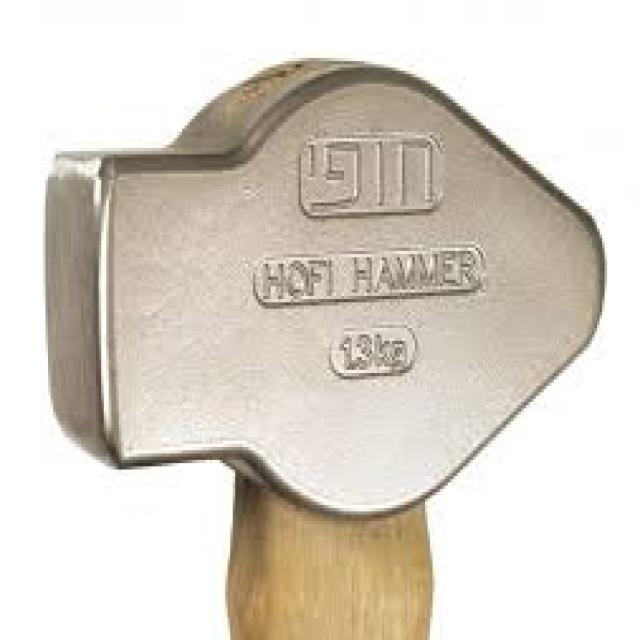Palu: (44, 56, 605, 640)
